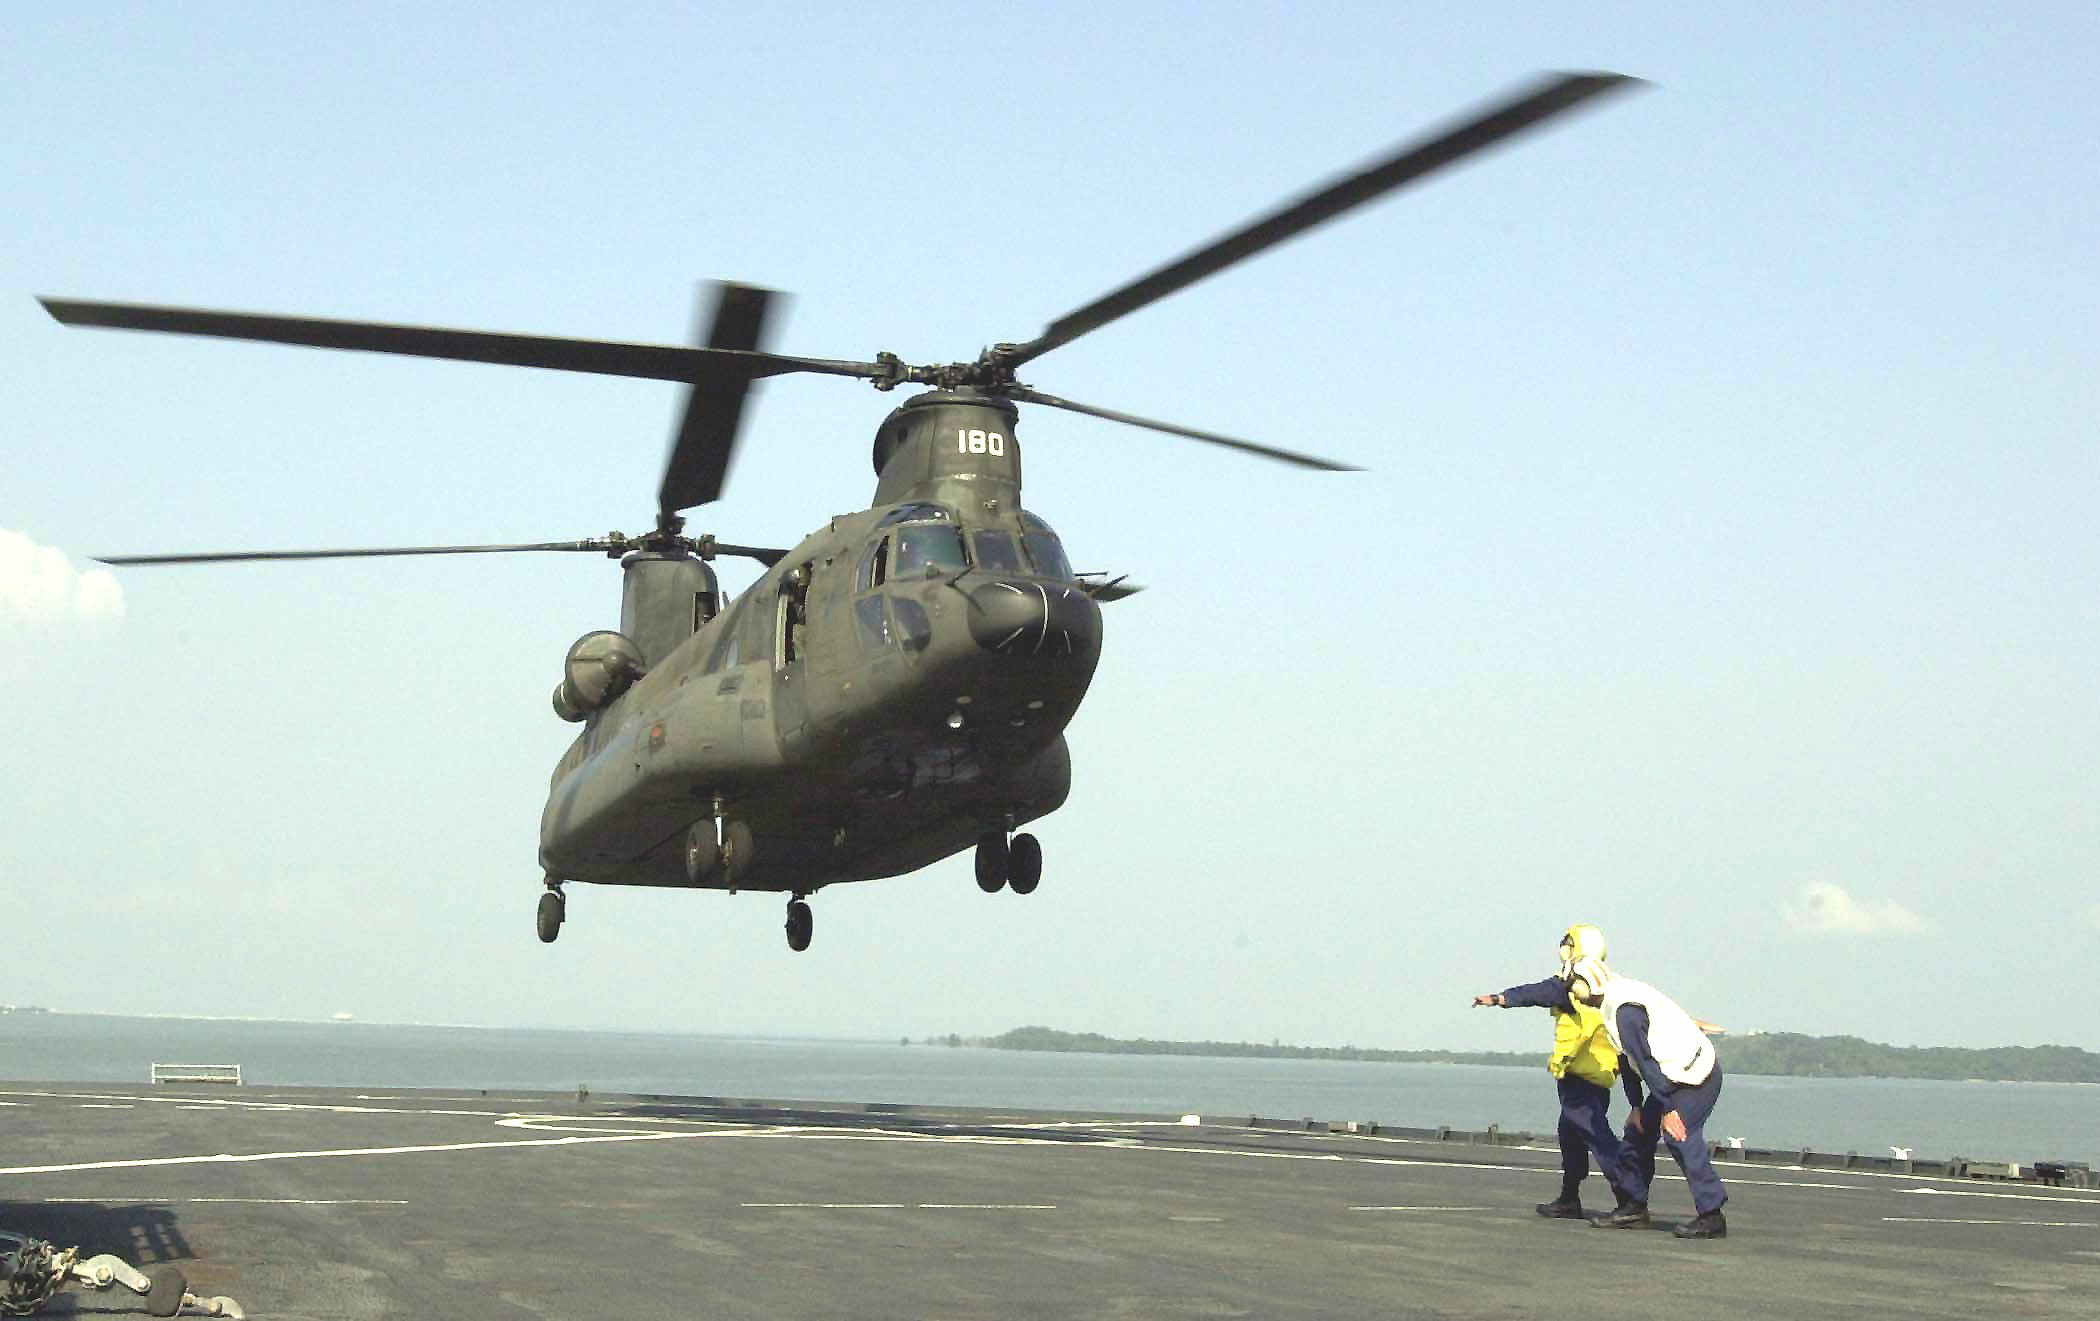chinook: (72, 68, 1545, 960)
